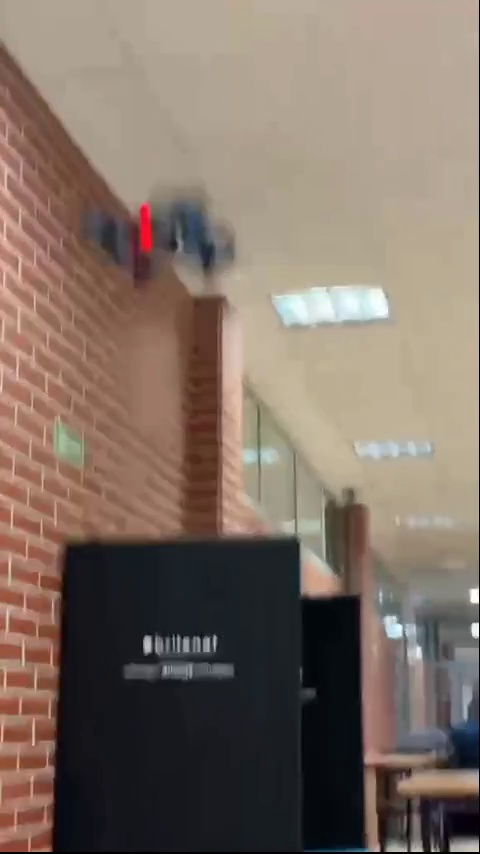drone: (86, 195, 248, 284)
